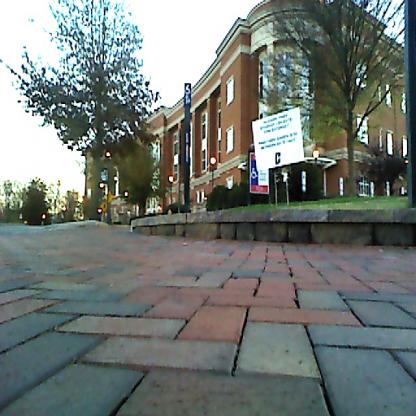Edge: (169, 229, 416, 270)
Sidewalk: (0, 230, 416, 416)
